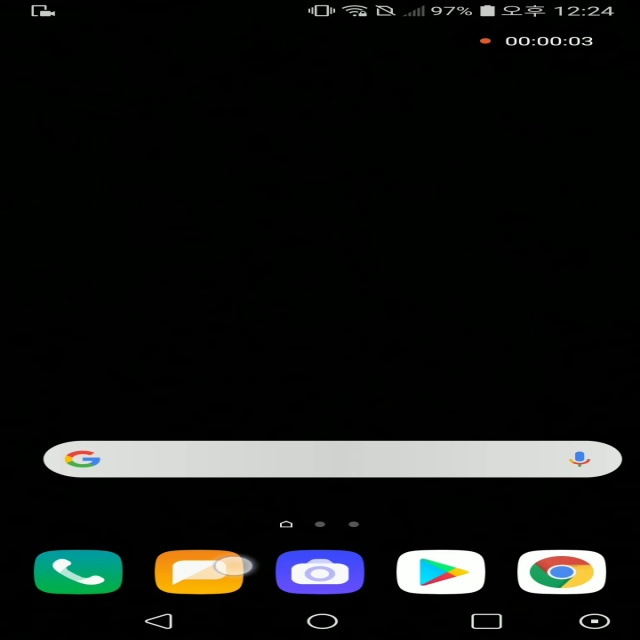Cursor: (212, 556, 256, 579)
